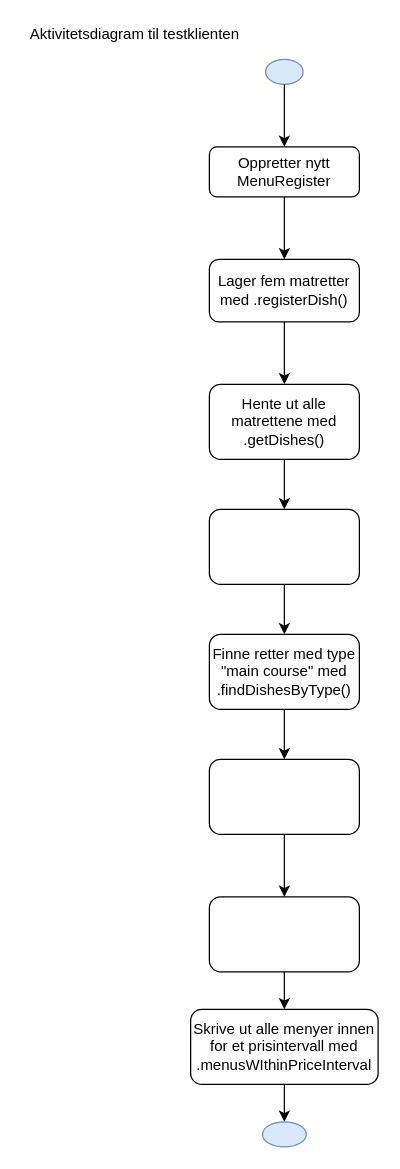
Image size: 400x1169. Some labels were removed from this diagram. Each missing label, with the centre of its shape:
Registrere tre menyer med .registerMenu(): the point at 283,796
Skrive ut alle menyene med .getMenus(): the point at 283,934
Søke etter "chili soup" med .findDish(): the point at 283,546
